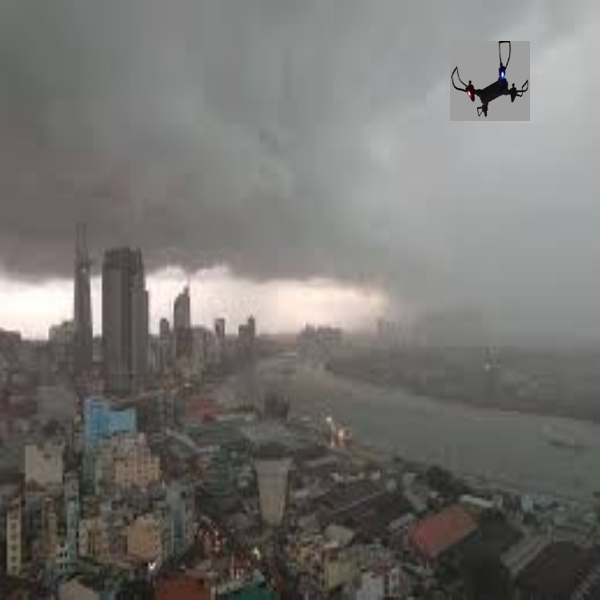drone: (449, 43, 532, 124)
